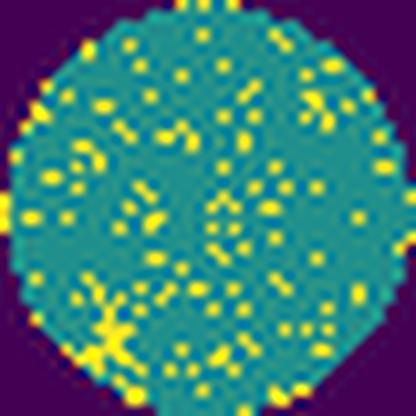Loc: (75, 273, 152, 377)
